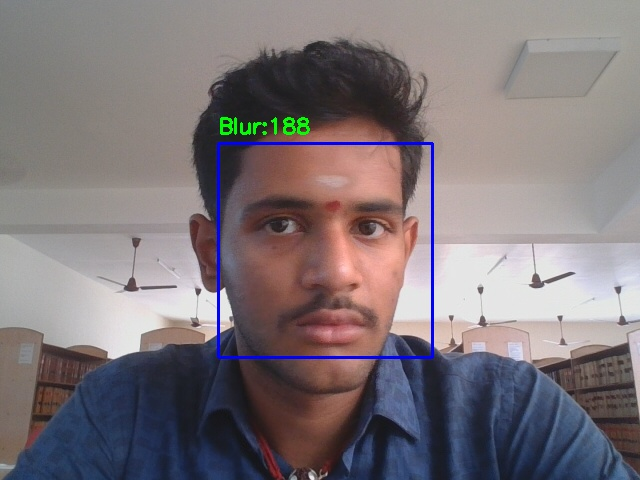real: (218, 143, 432, 357)
